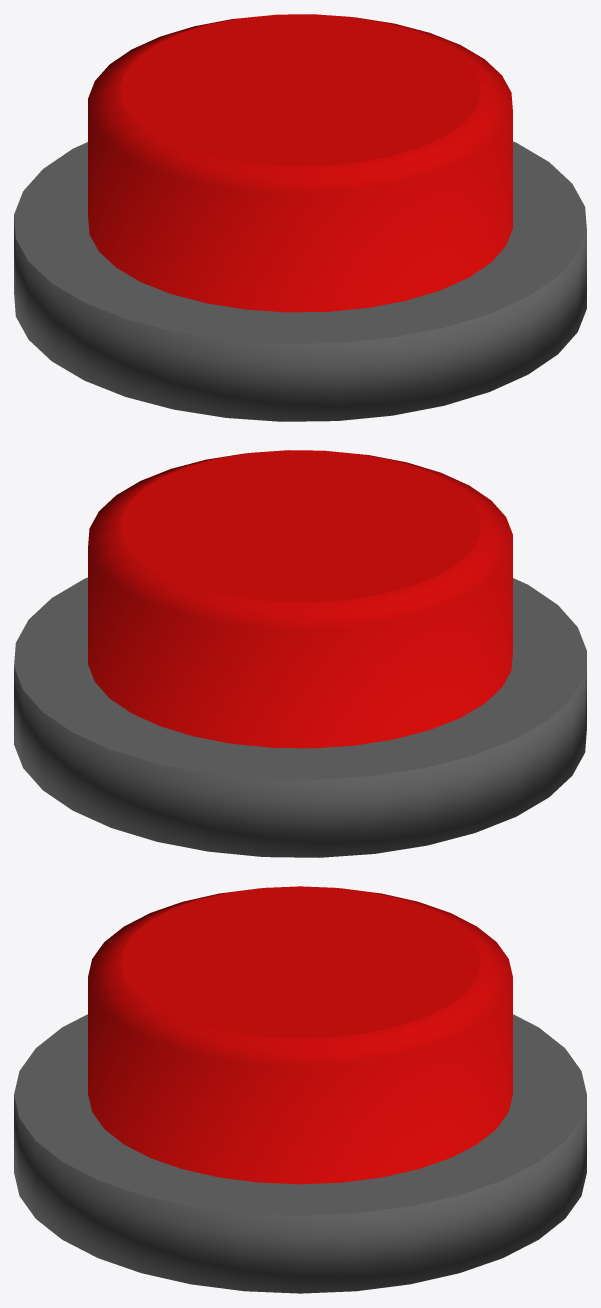
The model's file is button.fbx.
3 views of the same model, one above another, from view 1: azimuth 30°, elevation 25°; view 2: azimuth 150°, elevation 25°; view 3: azimuth 270°, elevation 25° (orthographic).
Parts seen in each view (by area): view 1: Cylinder; view 2: Cylinder; view 3: Cylinder.
Boxes of the visible parts, box(x1,y1,x2,y2) form: Cylinder: box(14, 14, 586, 421); Cylinder: box(14, 450, 586, 857); Cylinder: box(14, 886, 586, 1293).
Bounding box in the file's own units: 200 × 80.88 × 200.
